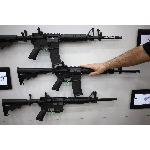Senapan: (11, 62, 145, 92), (2, 30, 126, 56), (1, 94, 123, 118)
